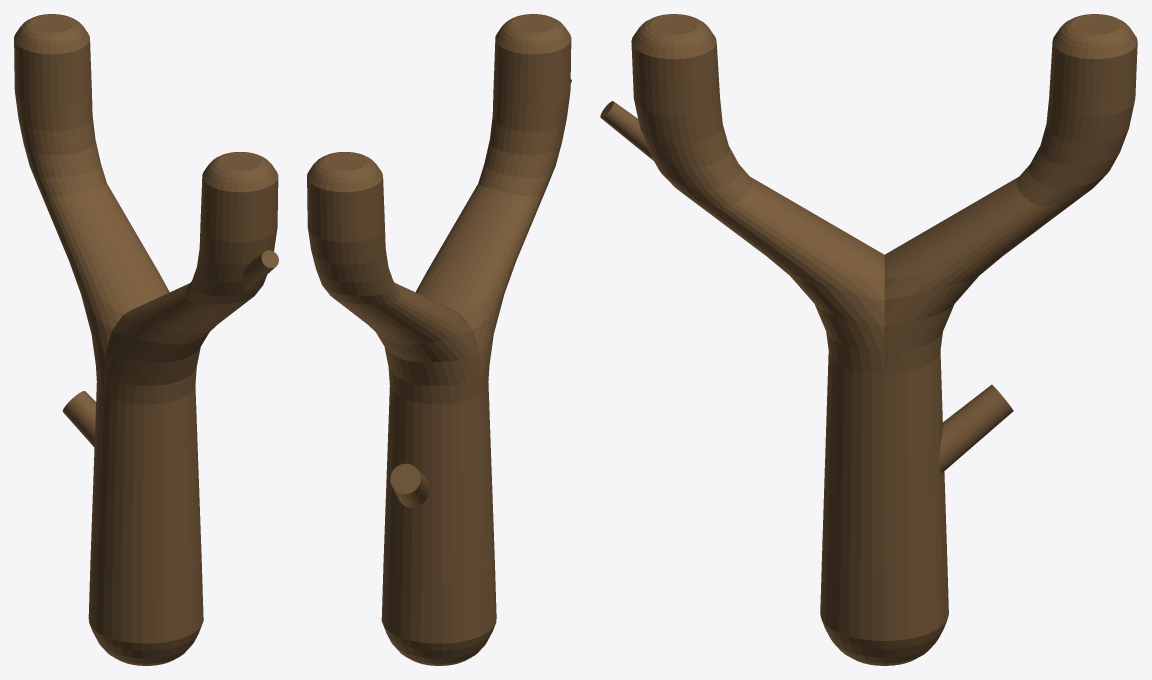
3 renders of one model, left to right at view 1: azimuth 30°, elevation 25°; view 2: azimuth 150°, elevation 25°; view 3: azimuth 270°, elevation 25°, orthographic. The views are drawn at different scales.
Parts seen in each view (by area): view 1: 柱体, 柱体.002, 柱体.001; view 2: 柱体, 柱体.002; view 3: 柱体, 柱体.002, 柱体.001.
Part boxes in pixels (<box>): 柱体: <box>14,14,278,665</box>; 柱体.002: <box>62,391,95,447</box>; 柱体.001: <box>242,250,278,289</box>; 柱体: <box>307,14,571,665</box>; 柱体.002: <box>390,463,429,507</box>; 柱体: <box>631,14,1137,665</box>; 柱体.002: <box>939,384,1013,472</box>; 柱体.001: <box>600,101,653,160</box>.
Size of the model in its own units: 87.48 by 470 by 365.
